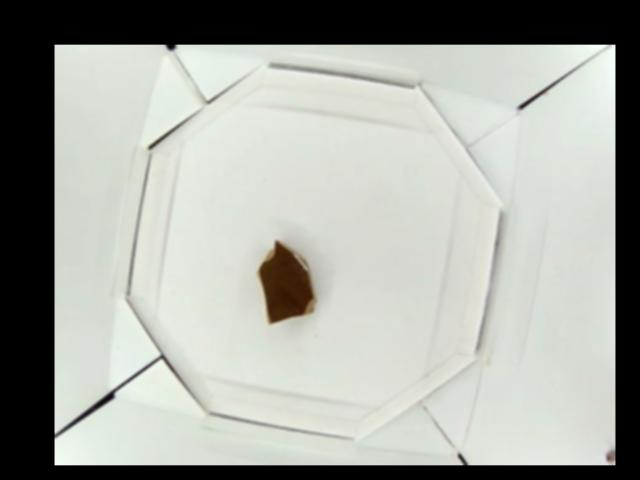China: (255, 238, 319, 325)
